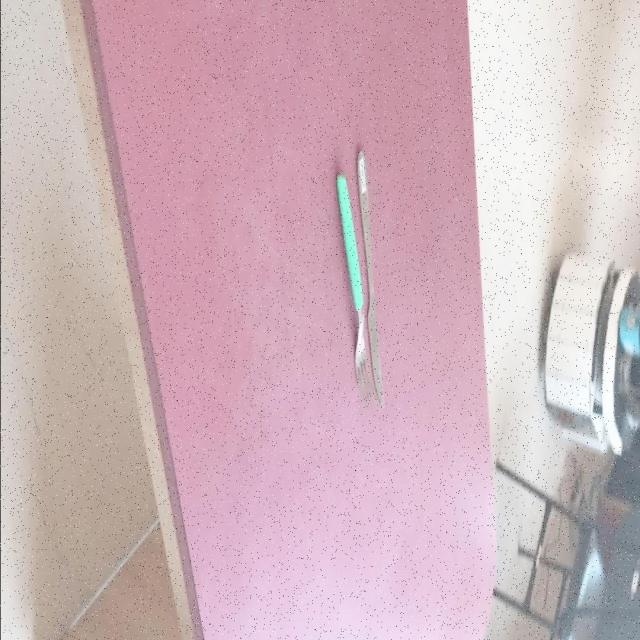Fork: (336, 174, 380, 404)
Knife: (356, 152, 385, 410)
